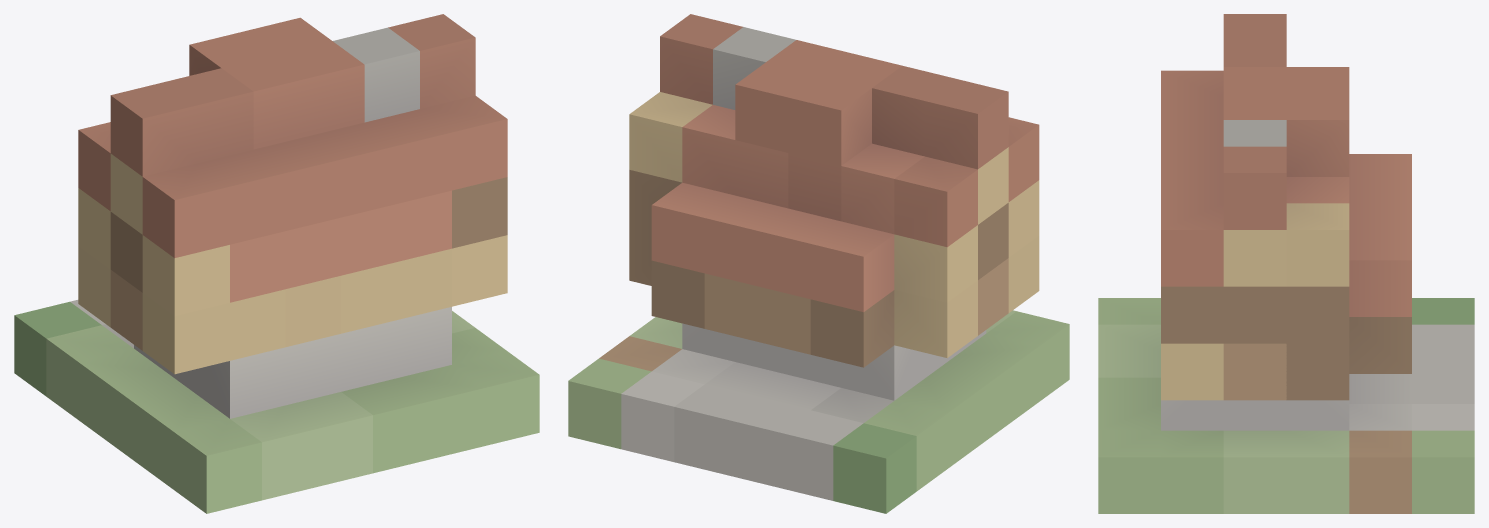
The model's file is house_citizens.v0.lite.glb.
3 renders of one model, left to right at view 1: azimuth 30°, elevation 25°; view 2: azimuth 150°, elevation 25°; view 3: azimuth 270°, elevation 25°, orthographic. The views are drawn at different scales.
Visible parts, largest first — view 1: house_citizens; view 2: house_citizens; view 3: house_citizens.
Boxes of the visible parts, left/top/right/bottom form: house_citizens: left=14, top=14, right=539, bottom=513; house_citizens: left=568, top=14, right=1069, bottom=513; house_citizens: left=1098, top=14, right=1474, bottom=513.
Bounding box in the file's own units: 3 × 3 × 3.
